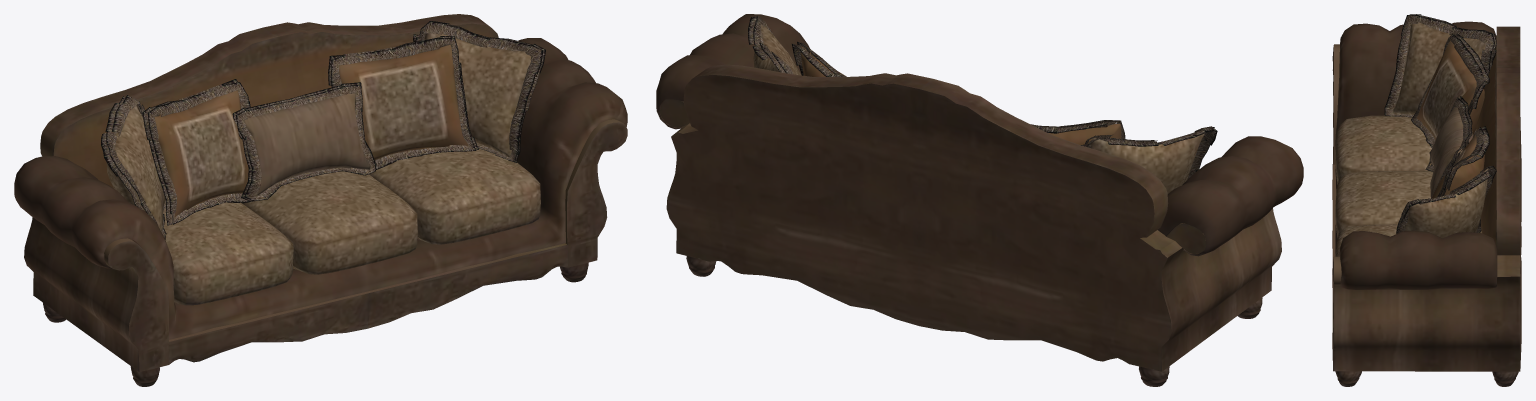
Rendered from sofa_03.7e72d46b.glb.
3 views of the same model, side by side, from view 1: azimuth 30°, elevation 25°; view 2: azimuth 150°, elevation 25°; view 3: azimuth 270°, elevation 25° (orthographic). The views are drawn at different scales.
Visible parts, largest first — view 1: sofa_03; view 2: sofa_03; view 3: sofa_03.
Part boxes in pixels (bbox=[...]): sofa_03: bbox=[14, 14, 627, 386]; sofa_03: bbox=[656, 14, 1303, 386]; sofa_03: bbox=[1332, 14, 1521, 386].
Bounding box in the file's own units: 0.95 × 0.389 × 0.3217.
2 materials, 2 textured.
